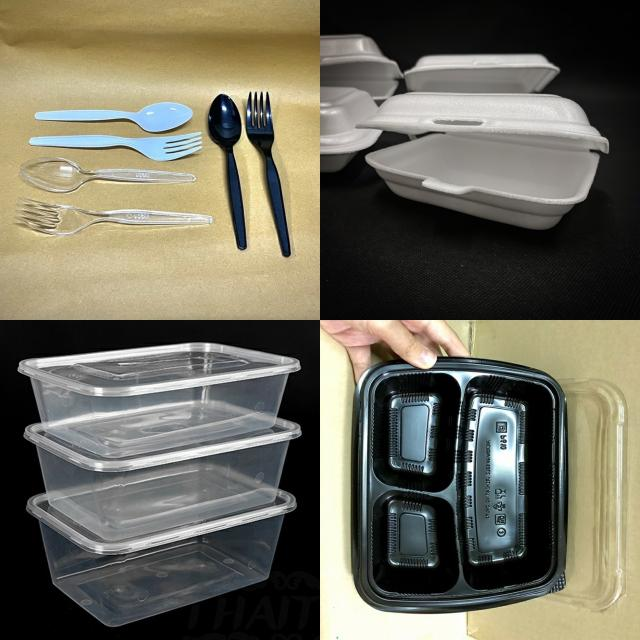Single-Use-Plastic: (352, 358, 568, 612), (28, 490, 295, 626), (25, 416, 300, 541), (360, 92, 609, 228), (19, 344, 299, 458), (559, 379, 628, 610), (15, 198, 212, 236), (246, 92, 291, 257), (20, 156, 195, 192), (404, 54, 560, 92), (209, 94, 246, 249), (320, 34, 404, 101), (320, 86, 381, 172), (29, 132, 201, 161), (35, 102, 192, 132)
